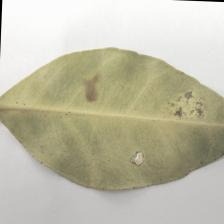canker: (67, 71, 211, 166)
